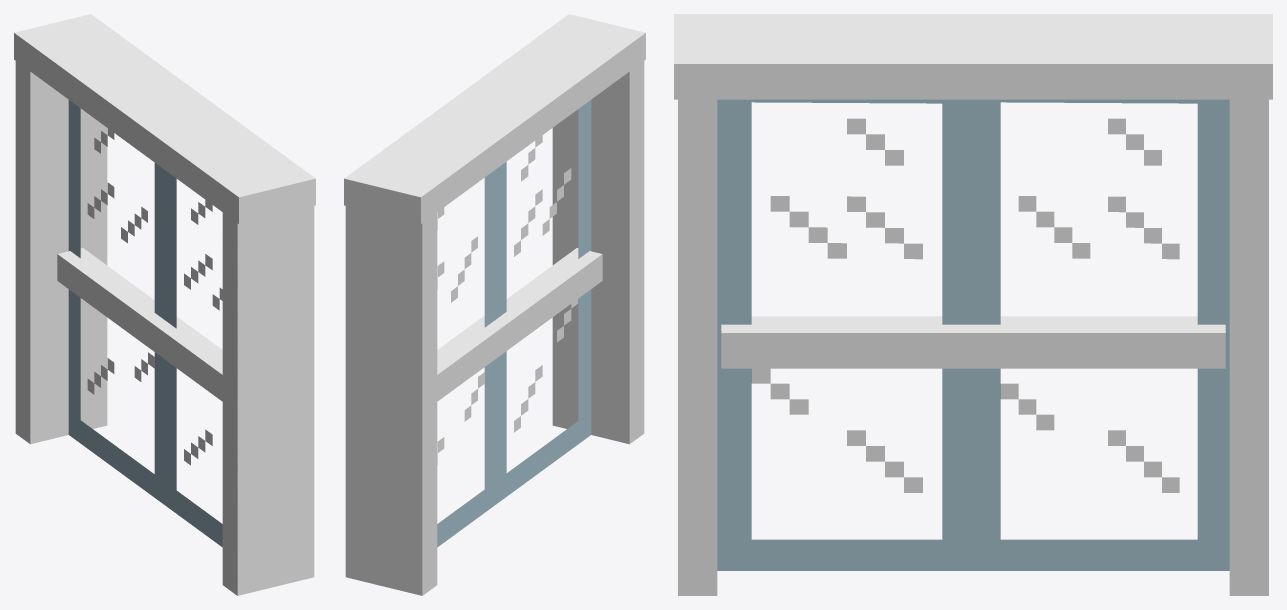
File: door2.fbx
3 views of the same model, side by side, from view 1: azimuth 30°, elevation 25°; view 2: azimuth 150°, elevation 25°; view 3: azimuth 270°, elevation 25° (orthographic). The views are drawn at different scales.
Visible parts, largest first — view 1: cuboid_1, cuboid, cuboid_2, plane, plane_1, cuboid_3, cuboid_4; view 2: cuboid, cuboid_1, cuboid_2, plane_1, plane, cuboid_4, cuboid_3; view 3: cuboid_2, plane_1, plane, cuboid, cuboid_1, cuboid_3, cuboid_4.
Boxes of the visible parts, x1,y1,x2,y2 form: cuboid_1: (222, 206, 314, 595); cuboid: (15, 58, 107, 444); cuboid_2: (14, 14, 315, 223); plane: (68, 100, 162, 502); plane_1: (162, 168, 222, 547); cuboid_3: (57, 248, 177, 349); cuboid_4: (152, 317, 222, 401); cuboid: (345, 206, 437, 595); cuboid_1: (552, 58, 644, 444); cuboid_2: (344, 14, 645, 223); plane_1: (498, 100, 591, 502); plane: (437, 168, 497, 547); cuboid_4: (482, 248, 602, 349); cuboid_3: (437, 317, 507, 401); cuboid_2: (674, 14, 1272, 99); plane_1: (717, 99, 980, 570); plane: (965, 99, 1229, 570); cuboid: (1229, 96, 1268, 595); cuboid_1: (678, 96, 717, 595); cuboid_3: (973, 316, 1225, 368); cuboid_4: (721, 316, 973, 368).
Bounding box in the file's own units: 9.38 × 46.56 × 47.5.
2 materials, 2 textured.
